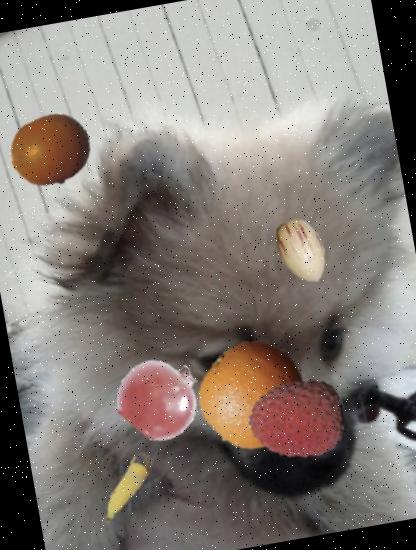Banana: (78, 441, 174, 537)
Grapefruit: (3, 104, 98, 198)
Lychee: (241, 364, 352, 475)
Orange: (190, 332, 315, 458)
Pepino: (263, 213, 341, 291)
Redcurrant: (114, 350, 208, 444)
